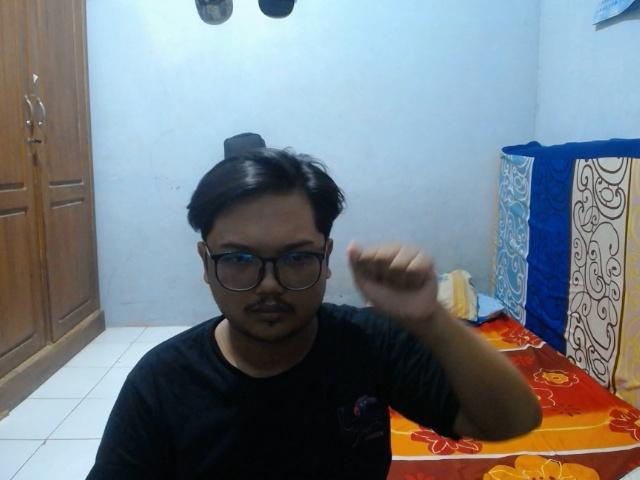Grab: (343, 239, 447, 334)
